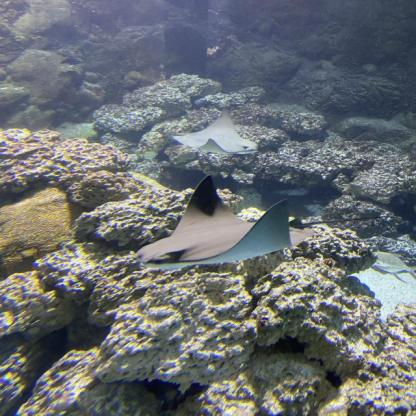fish: (363, 250, 416, 286)
stingray: (124, 172, 314, 272), (173, 106, 263, 160)
